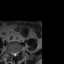CCS_severe_stenosis: (14, 50, 15, 57)
LFS_normal: (17, 49, 19, 54)
LLS_normal: (15, 50, 17, 56)
RFS_normal: (10, 50, 12, 56)
RLS_normal: (12, 51, 14, 56)
